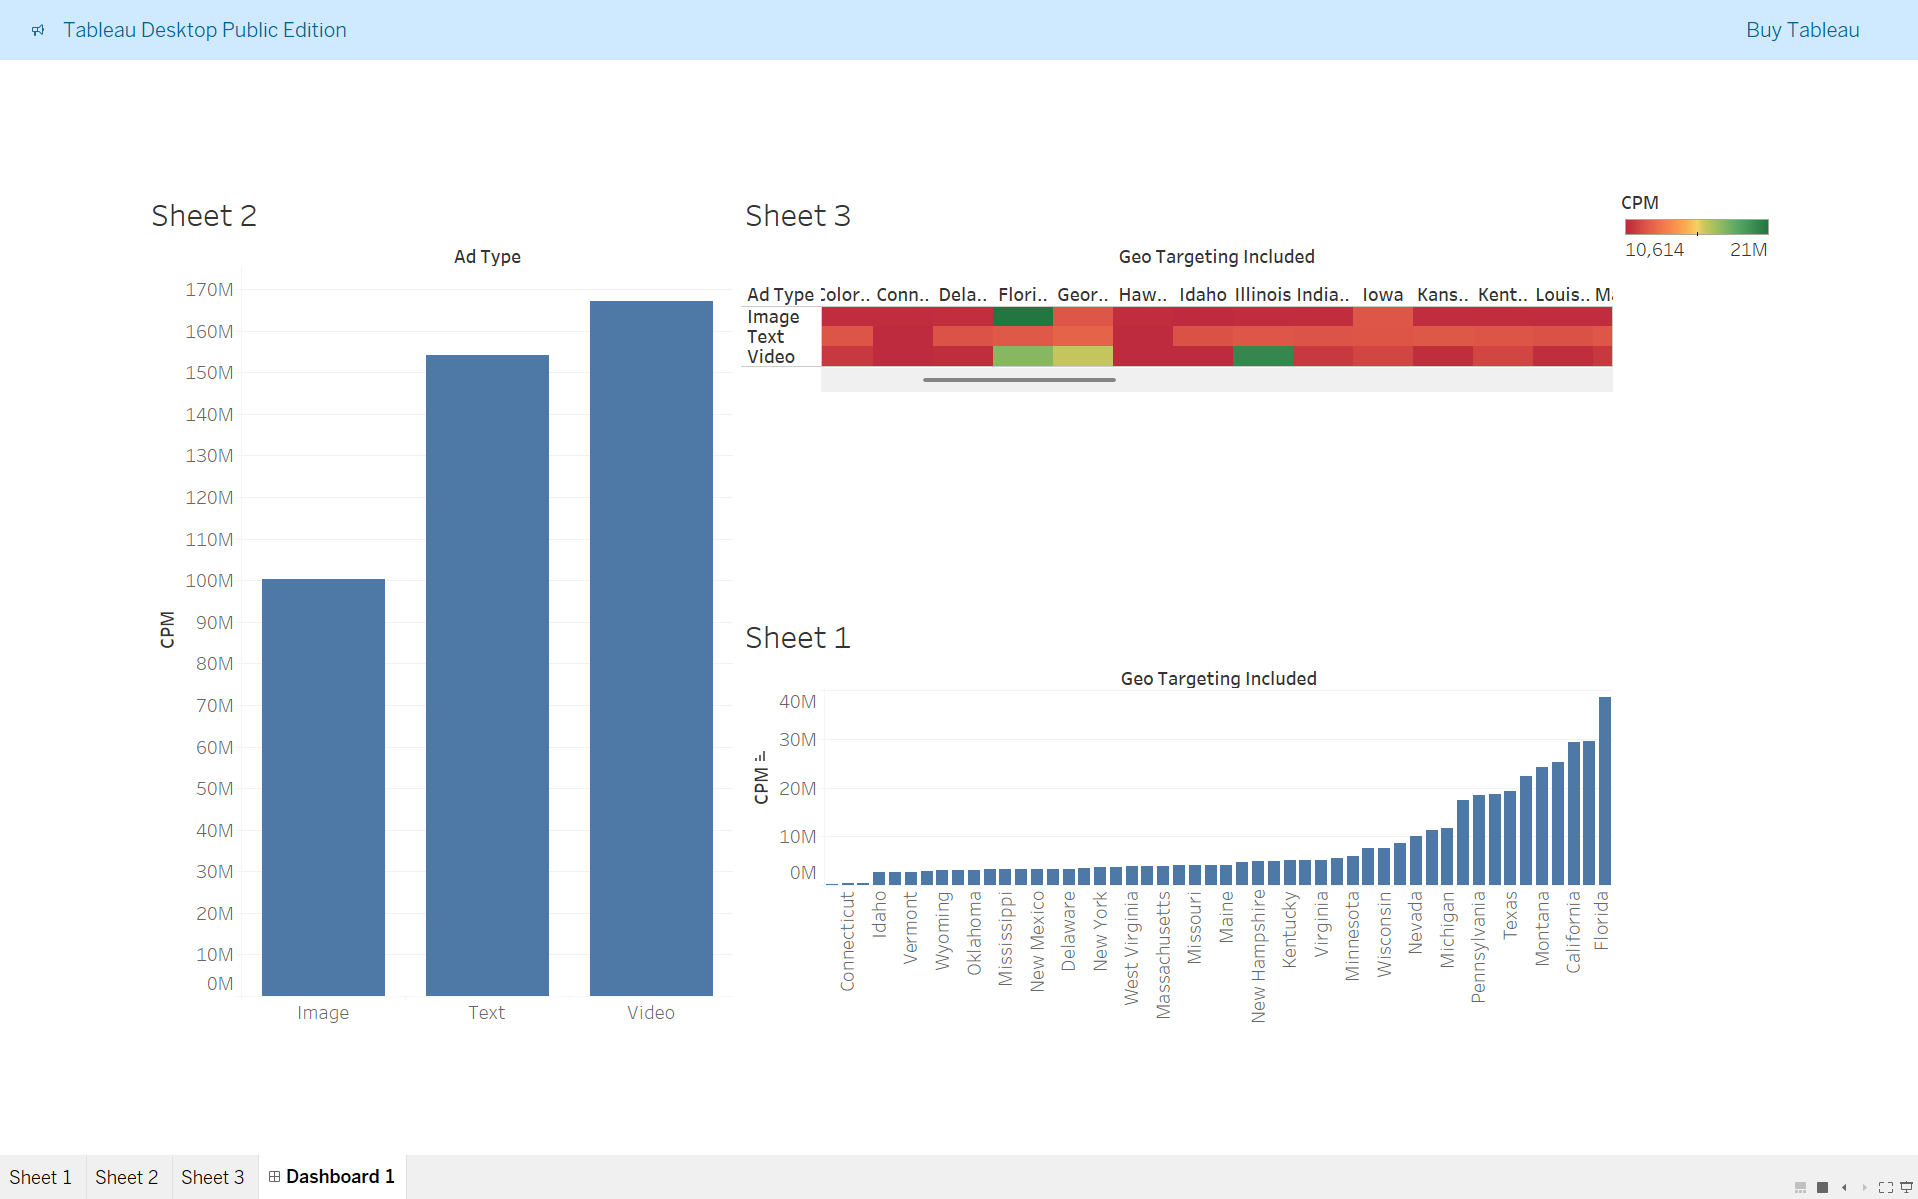

This screenshot's page, from the dashboard's own definition file:
{"tool":"tableau","page":{"name":"Dashboard 1","canvas":[1000,1000],"units":"permille","ordinal":0},"visuals":[{"type":"worksheet","title":"Sheet 2","mark":"Bar","rows":["CPM"],"cols":["ad_type"],"box":[5.1,9.5,357.8,981]},{"type":"worksheet","title":"Sheet 3","mark":"Square","rows":["ad_type"],"cols":["geo_targeting_included"],"box":[362.9,9.5,530.7,490.5]},{"type":"legend","title":"Sheet 3","param":"[federated.18au3vp1yp11dh13ori820pptf6q].[sum:CPM:qk]","box":[893.6,9.5,101.3,96.3]},{"type":"worksheet","title":"Sheet 1","mark":"Automatic","rows":["CPM"],"cols":["geo_targeting_included"],"box":[362.9,500,530.7,490.5]}]}

Visuals, with their boxes on the dashboard's canvas, which has no fixed pixel size, in thousandths of its width and height (x1, y1, x2, y2). These are canvas units, not pixel positions in the 1918x1199 screenshot, which may show the page scaled, cropped or inside an application window:
"Sheet 2" worksheet (Bar marks): bbox=(5, 10, 363, 990)
"Sheet 3" worksheet (Square marks): bbox=(363, 10, 894, 500)
"Sheet 3" legend: bbox=(894, 10, 995, 106)
"Sheet 1" worksheet: bbox=(363, 500, 894, 990)
